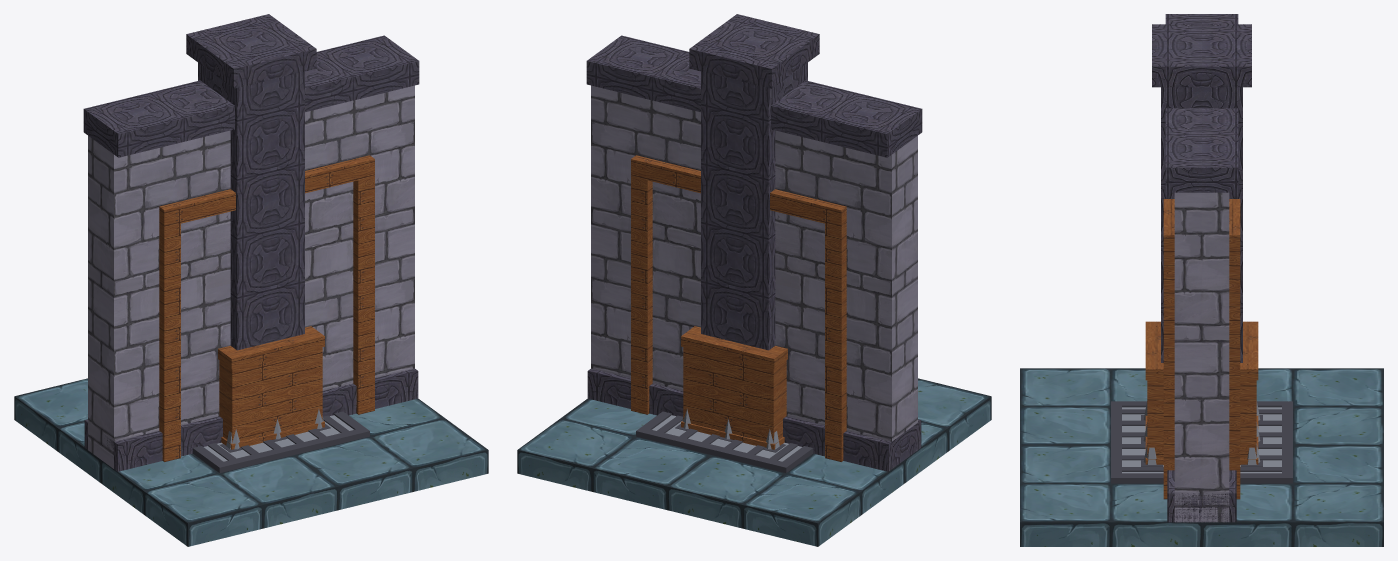
Rendered from dungeon_kit.glb.
3 renders of one model, left to right at view 1: azimuth 30°, elevation 25°; view 2: azimuth 150°, elevation 25°; view 3: azimuth 270°, elevation 25°, orthographic. The views are drawn at different scales.
Parts seen in each view (by area): view 1: wall, floor_tile, pillar, wall_door, crate, trap_grate, spike_plate; view 2: wall, floor_tile, pillar, wall_door, crate, trap_grate, spike_plate; view 3: floor_tile, wall, pillar, wall_door, trap_grate, crate, spike_plate, spikes.
Part boxes in pixels (left/top/right/bottom): wall: left=83, top=35, right=419, bottom=471; floor_tile: left=14, top=378, right=488, bottom=546; pillar: left=186, top=14, right=316, bottom=350; wall_door: left=85, top=100, right=417, bottom=471; crate: left=218, top=326, right=324, bottom=449; trap_grate: left=192, top=411, right=369, bottom=472; spike_plate: left=204, top=415, right=353, bottom=461; wall: left=586, top=35, right=922, bottom=471; floor_tile: left=517, top=378, right=991, bottom=546; pillar: left=689, top=14, right=819, bottom=350; wall_door: left=587, top=86, right=920, bottom=470; crate: left=681, top=326, right=787, bottom=449; trap_grate: left=636, top=411, right=813, bottom=472; spike_plate: left=652, top=415, right=801, bottom=461; floor_tile: left=1020, top=368, right=1383, bottom=546; wall: left=1165, top=14, right=1238, bottom=522; pillar: left=1152, top=24, right=1251, bottom=362; wall_door: left=1163, top=199, right=1240, bottom=499; trap_grate: left=1111, top=401, right=1292, bottom=483; crate: left=1145, top=321, right=1258, bottom=464; spike_plate: left=1122, top=407, right=1281, bottom=473; spikes: left=1143, top=401, right=1260, bottom=464.
Size of the model in its own units: 4 by 5.15 by 4.
12 materials, 6 textured.
